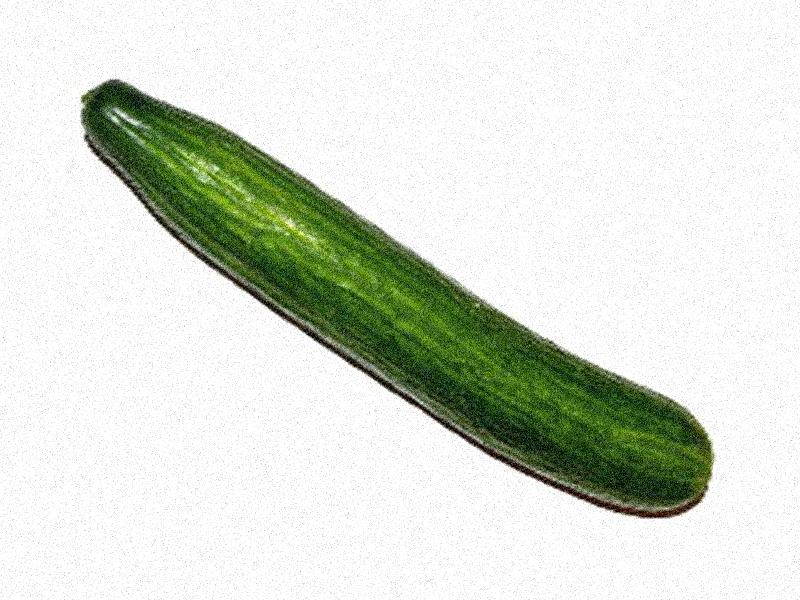Cucumber: (81, 79, 712, 515)
